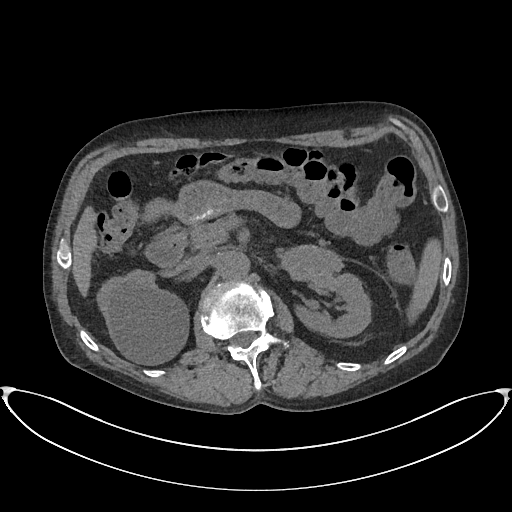Lesion: (277, 246, 346, 288)
